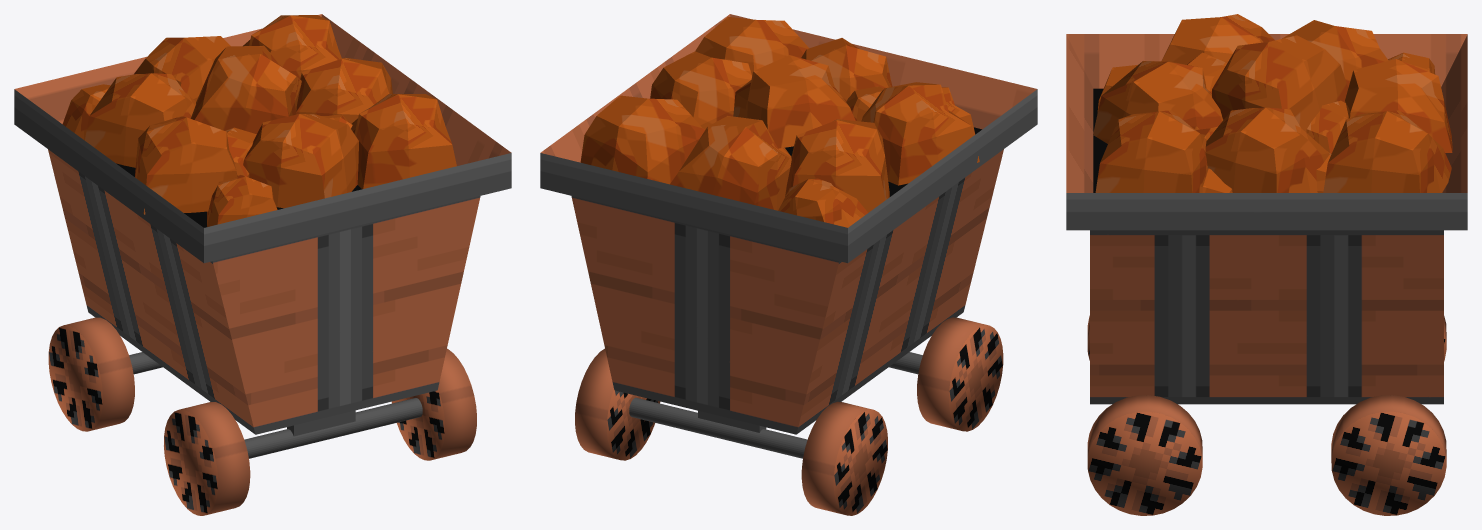
The model's file is Minecart.fbx.
The picture shows the model from 3 angles, left to right: view 1: azimuth 30°, elevation 25°; view 2: azimuth 150°, elevation 25°; view 3: azimuth 270°, elevation 25°; orthographic projection. The views are drawn at different scales.
Visible parts, largest first — view 1: Body, Rock.001, Wheel.003, Wheel, Rock.002, Rock.006, Rock.008, Rock.005, Wheel.001, Rock.007, Rock.003, Rock.004 (+5 smaller); view 2: Body, Wheel, Wheel.003, Rock.003, Rock.004, Rock.006, Rock.008, Rock.005, Wheel.002, Rock.007, Rock.002, Axle.001 (+3 smaller); view 3: Body, Wheel.002, Wheel.001, Rock.003, Rock.008, Rock.007, Rock.002, Rock.001, Rock.004, Rock.006, Rock.005, Rock.009 (+4 smaller).
Part boxes in pixels (<box>): Body: <box>14,14,511,434</box>; Rock.001: <box>243,114,358,208</box>; Wheel.003: <box>48,317,134,431</box>; Wheel: <box>164,402,250,515</box>; Rock.002: <box>351,94,456,189</box>; Rock.006: <box>135,116,237,214</box>; Rock.008: <box>190,45,301,134</box>; Rock.005: <box>85,73,195,167</box>; Wheel.001: <box>391,348,476,460</box>; Rock.007: <box>296,57,392,123</box>; Rock.003: <box>243,15,341,78</box>; Rock.004: <box>134,36,230,101</box>; Body: <box>540,14,1037,434</box>; Wheel: <box>917,317,1003,431</box>; Wheel.003: <box>801,401,887,515</box>; Rock.003: <box>580,95,704,184</box>; Rock.004: <box>670,116,791,210</box>; Rock.006: <box>861,82,979,185</box>; Rock.008: <box>733,55,855,148</box>; Rock.005: <box>785,119,889,212</box>; Wheel.002: <box>575,348,660,460</box>; Rock.007: <box>650,51,751,129</box>; Rock.002: <box>695,16,808,75</box>; Axle.001: <box>629,397,807,458</box>; Body: <box>1066,34,1467,404</box>; Wheel.002: <box>1331,395,1446,515</box>; Wheel.001: <box>1087,395,1202,515</box>; Rock.003: <box>1323,110,1451,192</box>; Rock.008: <box>1212,35,1348,132</box>; Rock.007: <box>1205,107,1329,192</box>; Rock.002: <box>1095,110,1207,192</box>; Rock.001: <box>1093,61,1223,143</box>; Rock.004: <box>1344,59,1452,152</box>; Rock.006: <box>1161,14,1274,64</box>; Rock.005: <box>1282,20,1388,87</box>; Rock.009: <box>1306,100,1348,153</box>.
Size of the model in its own units: 339 by 403 by 361.
